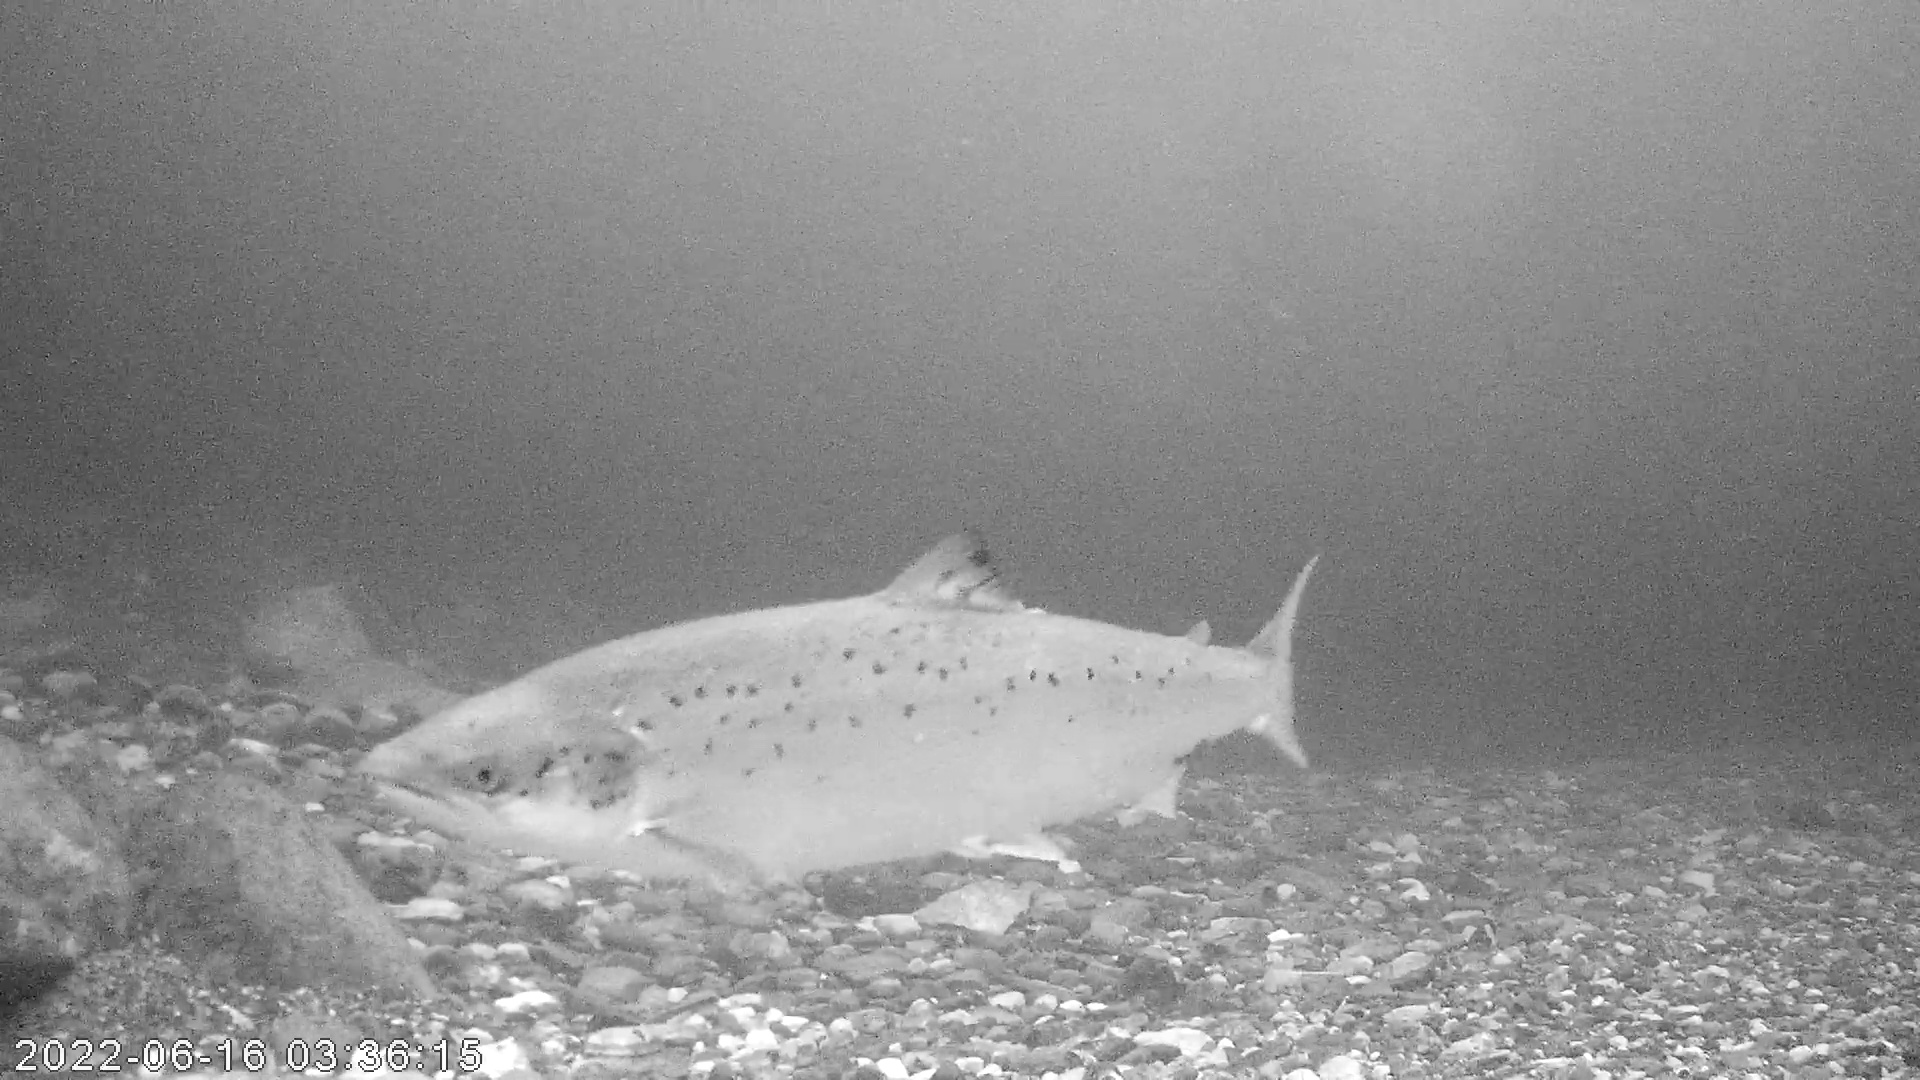salmon: (353, 525, 1328, 889)
